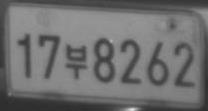1: (15, 33, 35, 78)
2: (173, 41, 196, 88), (119, 38, 142, 84)
6: (146, 40, 169, 86)
7: (38, 34, 60, 78)
8: (93, 37, 115, 82)
부: (64, 44, 88, 79)
